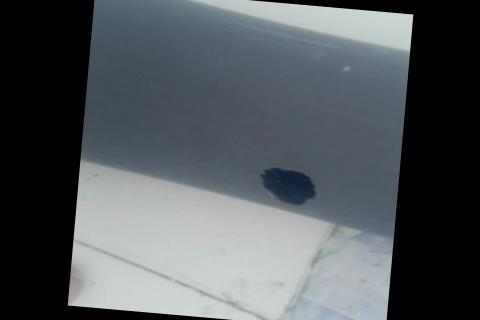kebocoran: (256, 166, 319, 207)
